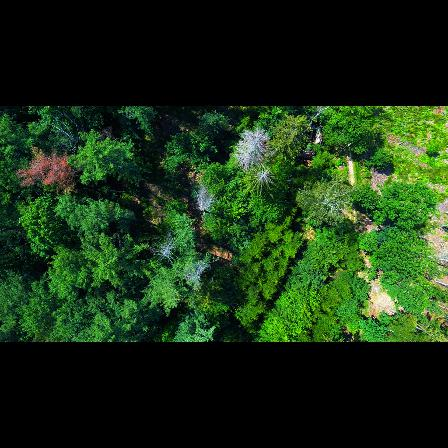Dead: (229, 126, 270, 171), (148, 230, 179, 261), (190, 181, 217, 216)
Sick: (251, 166, 274, 187)
